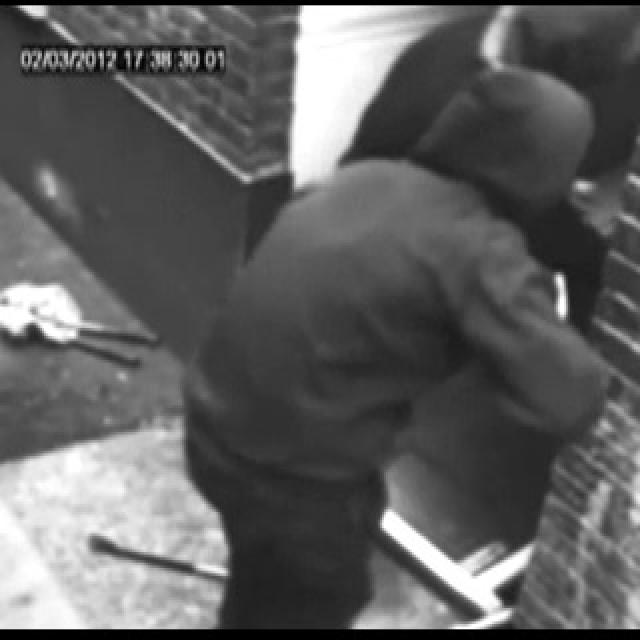thief: (423, 0, 640, 295)
